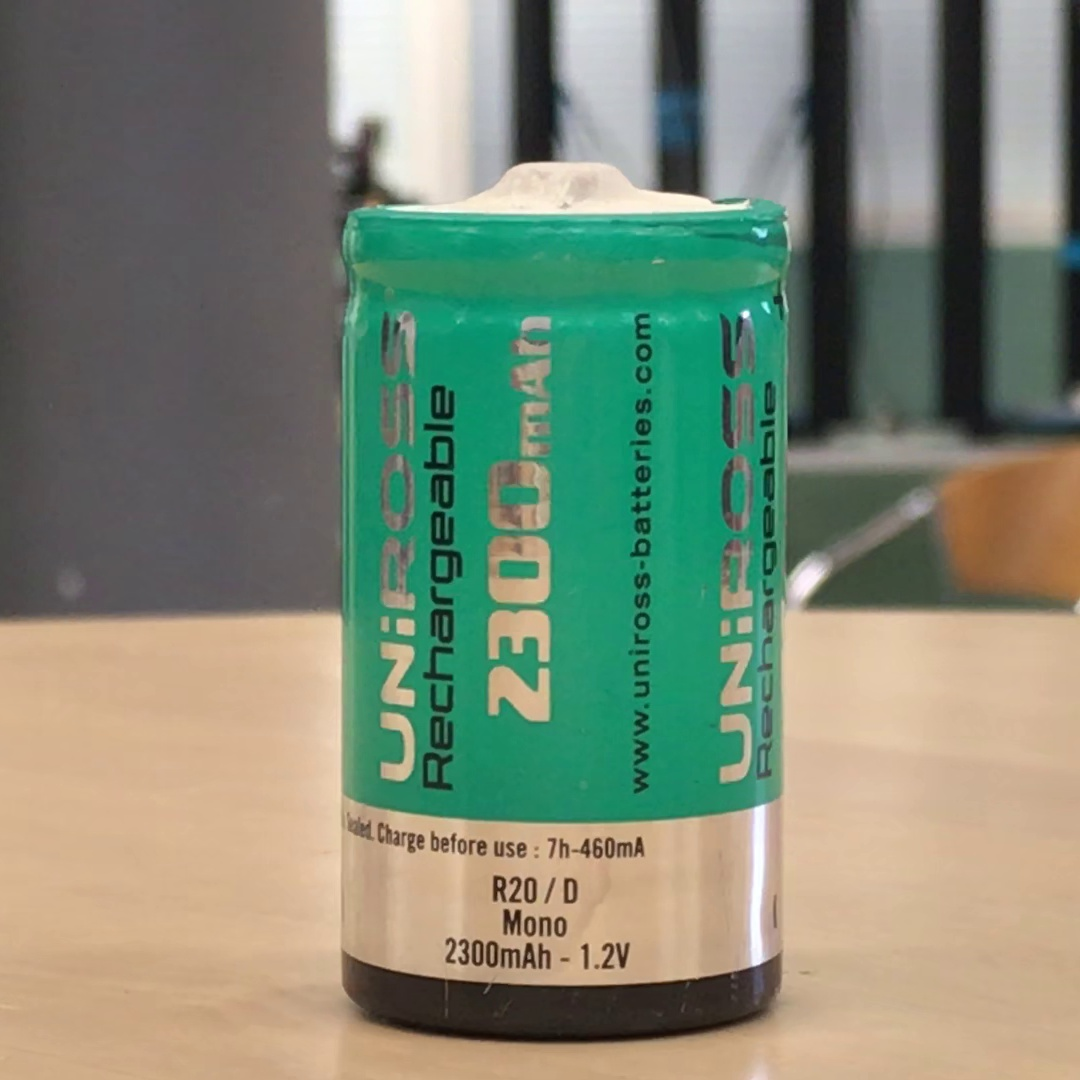keyword: (571, 933, 640, 979)
